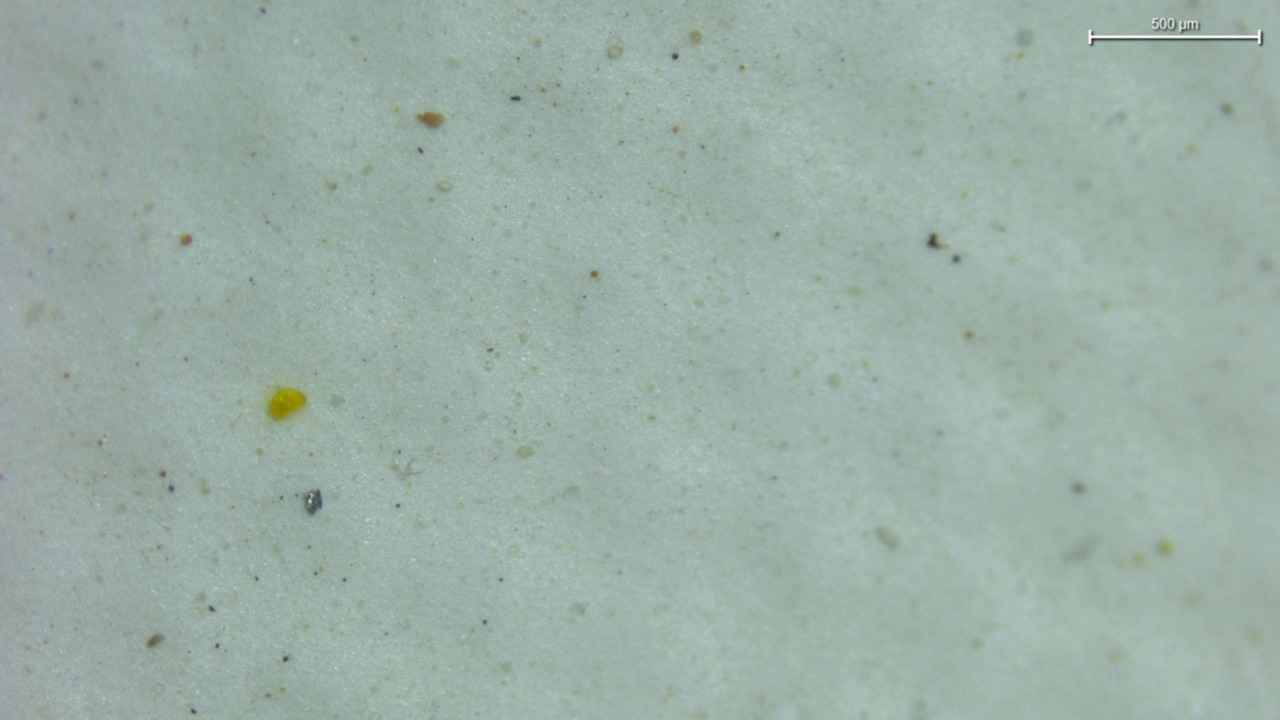microplastic_fragment: (302, 489, 322, 514)
